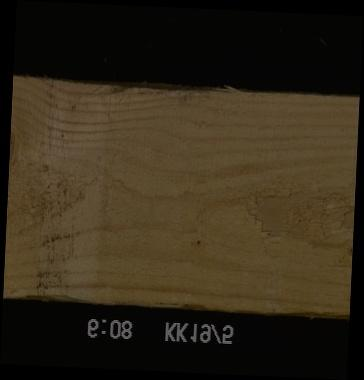small_knot: (342, 241, 351, 262), (193, 236, 203, 248)
wave: (98, 85, 237, 102), (2, 287, 98, 302), (176, 298, 211, 309)
